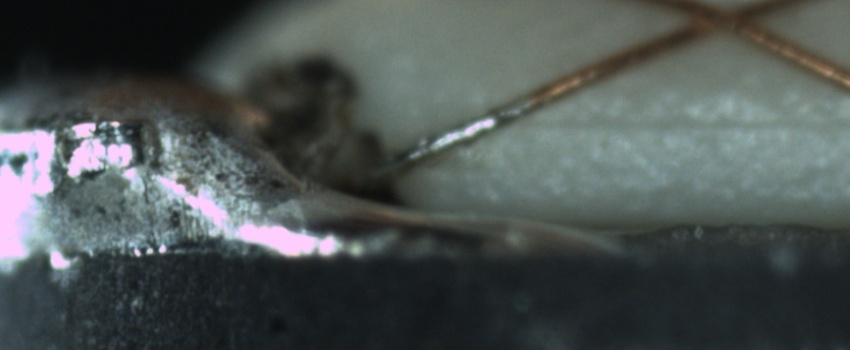CL: (669, 2, 781, 44)
DL: (514, 94, 850, 158)
TS: (334, 94, 531, 193)
